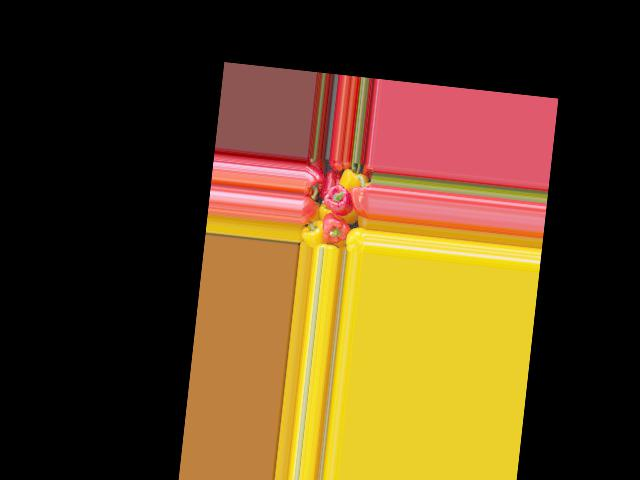bell_pepper: (302, 221, 326, 248)
